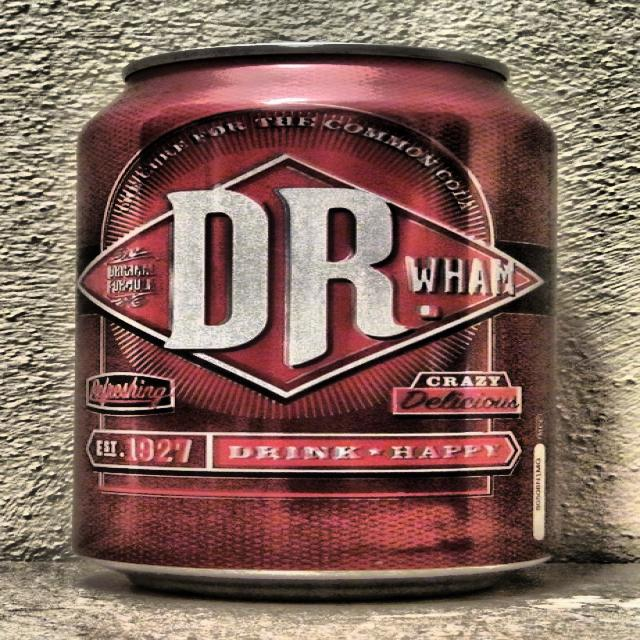Cans: (54, 40, 573, 602)
